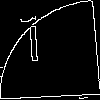I: (24, 25, 43, 72)
